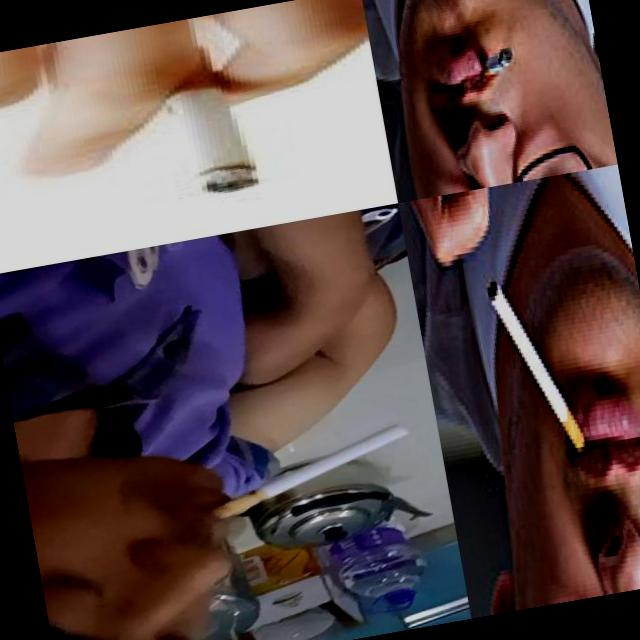cigarette: (485, 266, 595, 476), (198, 422, 418, 520), (155, 39, 263, 200), (478, 46, 516, 77)
